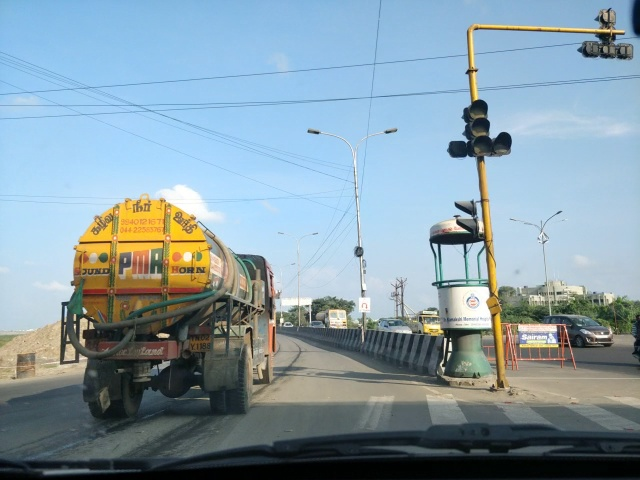auto: (419, 313, 444, 337)
car: (544, 314, 616, 347), (376, 320, 415, 334)
truck: (73, 200, 281, 421), (317, 311, 352, 327)
